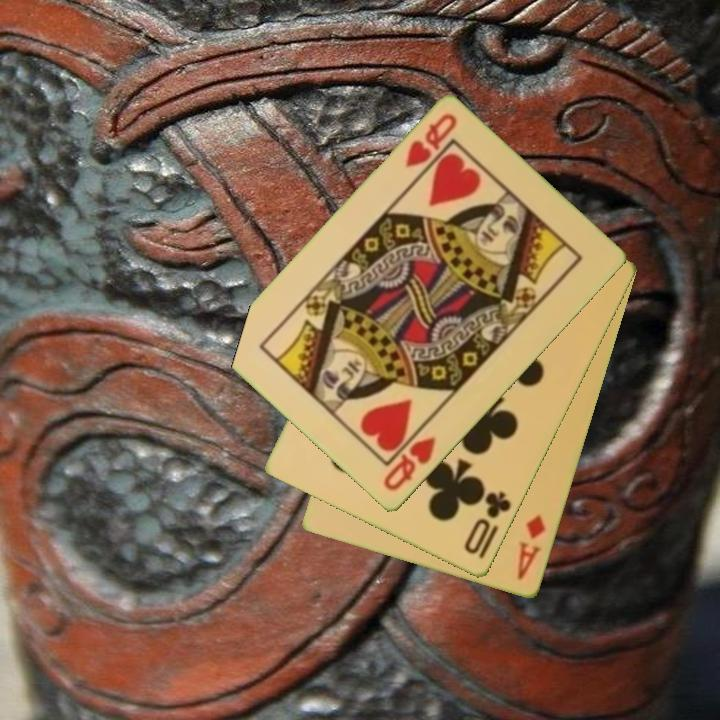10c: (460, 488, 515, 558)
Ad: (514, 511, 549, 584)
Qh: (380, 434, 439, 495), (402, 110, 460, 172)
